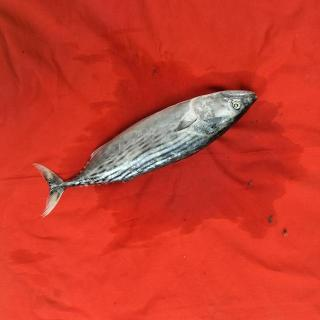Ikan: (28, 83, 262, 223)
